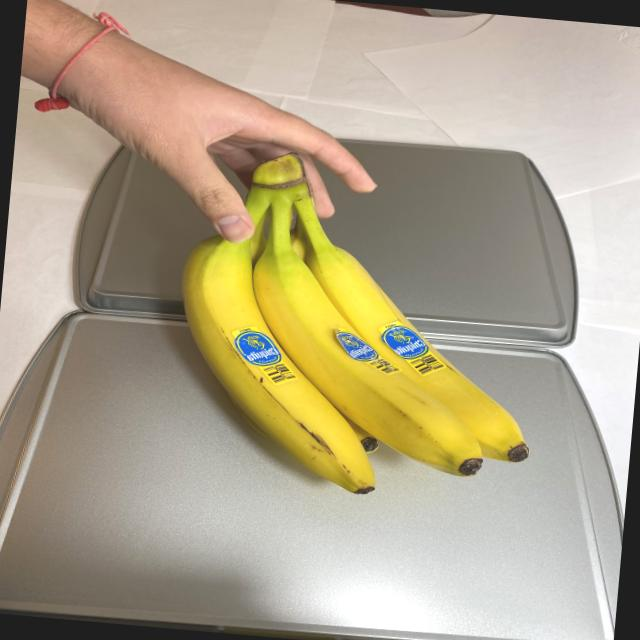banana: (158, 144, 556, 508)
